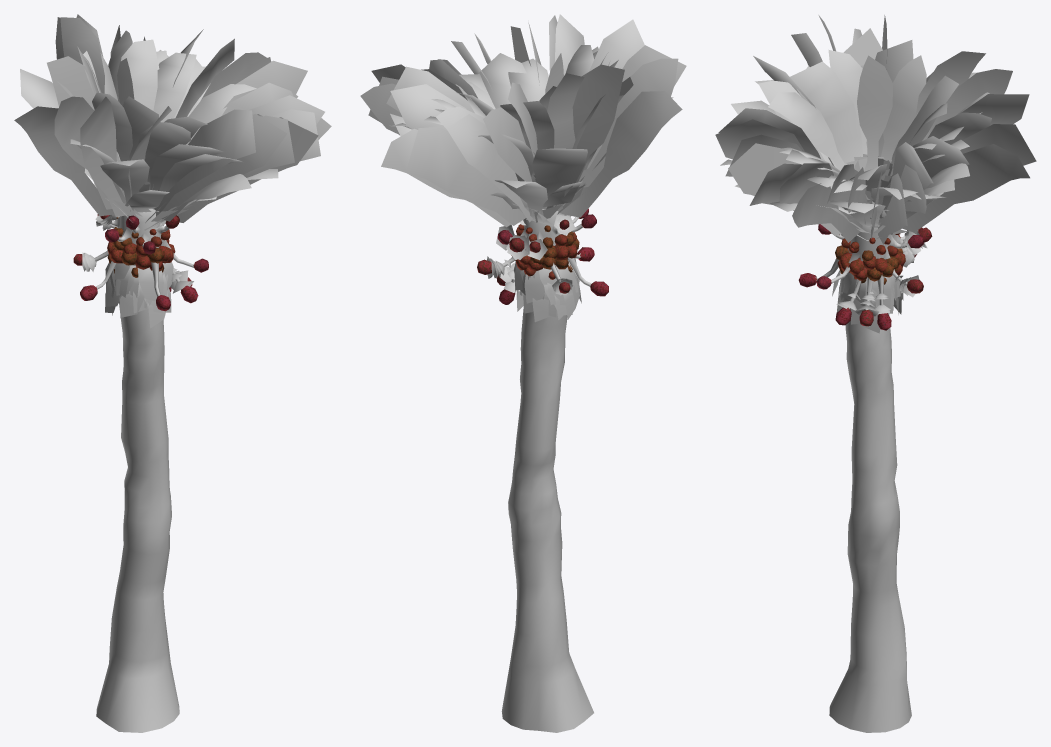
Rendered from Tree6_1_L1.fbx.
3 renders of one model, left to right at view 1: azimuth 30°, elevation 25°; view 2: azimuth 150°, elevation 25°; view 3: azimuth 270°, elevation 25°, orthographic.
Visible parts, largest first — view 1: polySurface26; view 2: polySurface26; view 3: polySurface26.
Boxes of the visible parts, <box> form: polySurface26: <box>14,14,331,732</box>; polySurface26: <box>360,14,686,732</box>; polySurface26: <box>715,15,1036,732</box>.
Size of the model in its own units: 670 by 1416 by 626.
